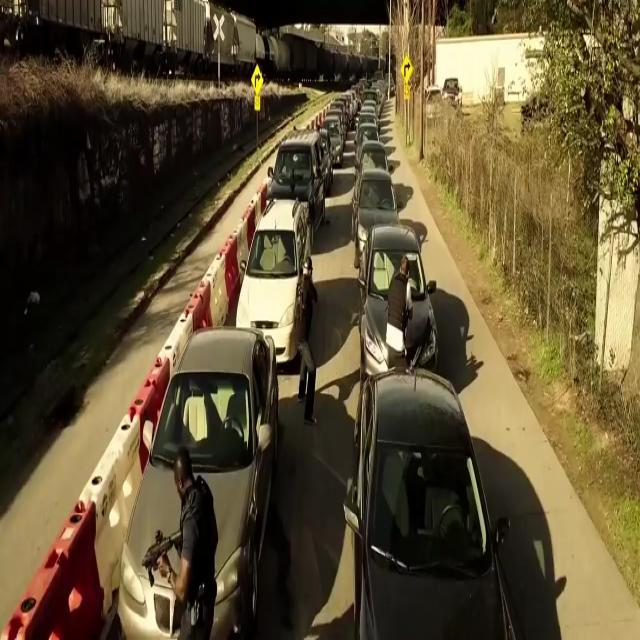Weapon: (134, 499, 194, 610)
